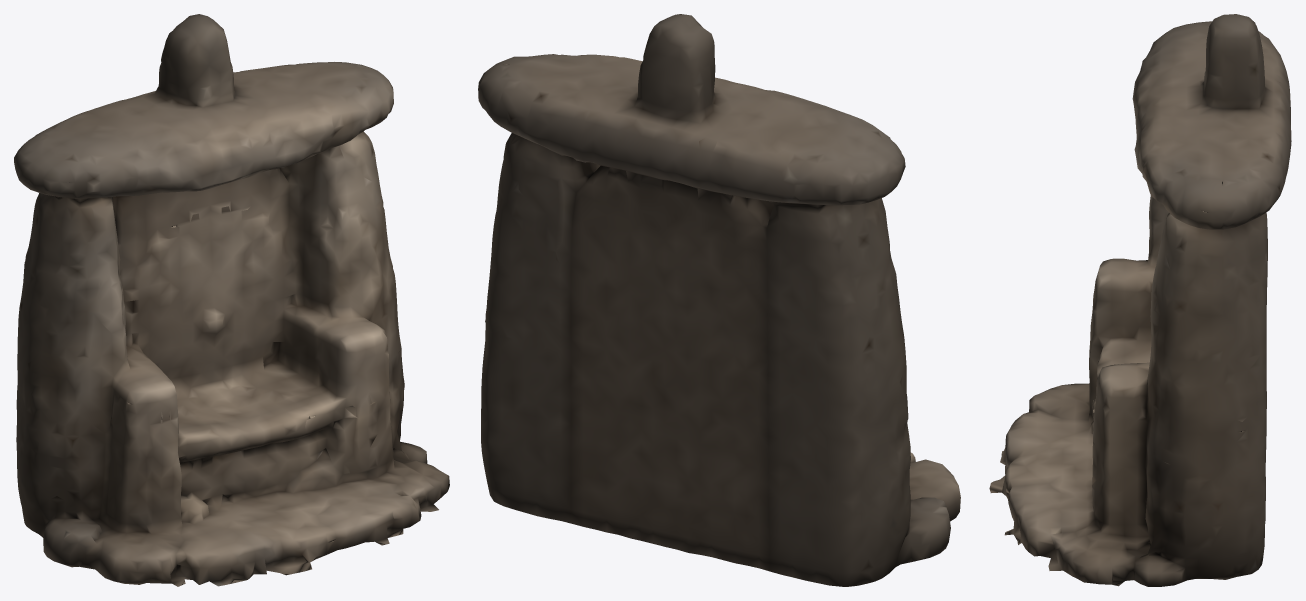
Rendered from steinthron.glb.
3 renders of one model, left to right at view 1: azimuth 30°, elevation 25°; view 2: azimuth 150°, elevation 25°; view 3: azimuth 270°, elevation 25°, orthographic. The views are drawn at different scales.
Size of the model in its own units: 1.62 by 1.89 by 1.08.
